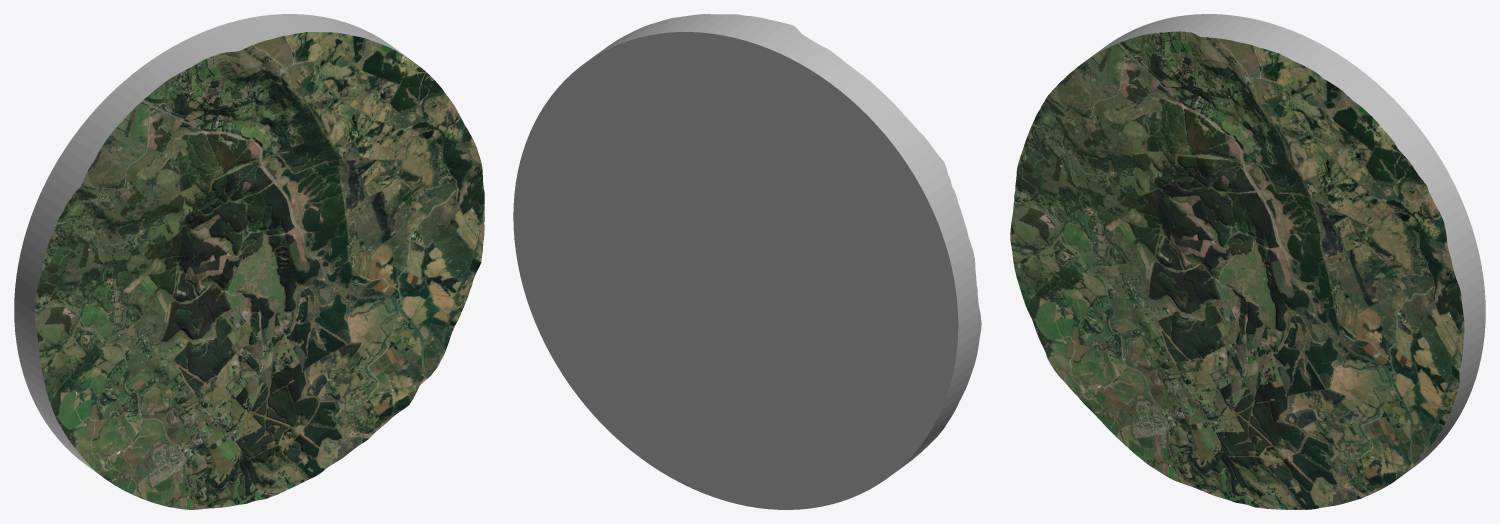
File: pietermaritzburg_ladysmith.glb
The picture shows the model from 3 angles, left to right: view 1: azimuth 30°, elevation 25°; view 2: azimuth 150°, elevation 25°; view 3: azimuth 330°, elevation 25°; orthographic projection.
Bounding box in the file's own units: 200 × 200 × 22.98.
Materials: 2 (1 with a texture image).
